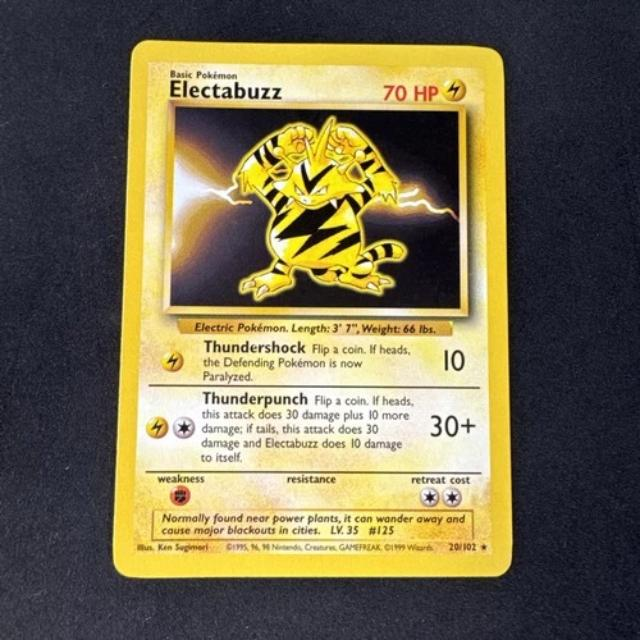Card: (106, 35, 518, 582)
Name: (160, 76, 287, 104)
